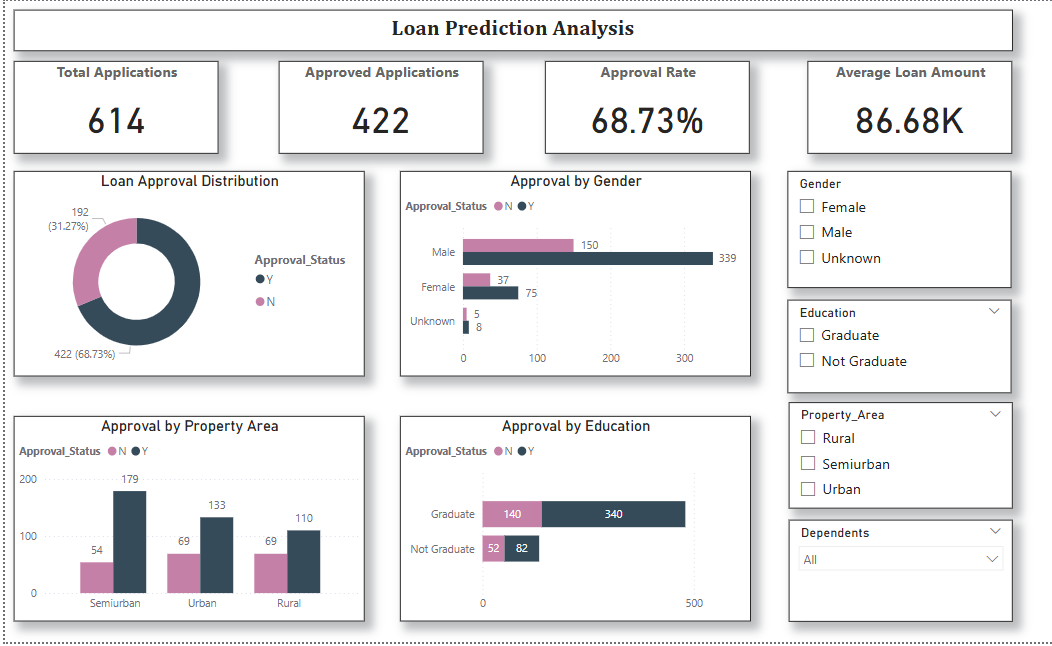

What the dashboard file says about the page in this screenshot:
{"tool":"powerbi","page":{"name":"Page 1","canvas":[1280,720],"ordinal":0},"visuals":[{"type":"textbox","box":[9.8,9.8,1120.4,46.3],"z":0},{"type":"card","title":"Total Applications","fields":{"Values":["CountNonNull(Loan Prediction dataset.Loan_ID)"]},"box":[9.8,67.3,230,103.8],"z":1000},{"type":"card","title":"Approved Applications","fields":{"Values":["CountNonNull(Loan Prediction dataset.Loan_ID)"]},"box":[307.1,67.3,230,103.8],"z":2000},{"type":"card","title":"Approval Rate","fields":{"Values":["Loan Prediction dataset.Approval Rate"]},"box":[605.8,67.3,230,103.8],"z":3000},{"type":"card","title":"Average Loan Amount","fields":{"Values":["Sum(Loan Prediction dataset.Loan_Amount)"]},"box":[900.3,67.3,230,103.8],"z":4000},{"type":"donutChart","title":"Loan Approval Distribution","fields":{"Y":["CountNonNull(Loan Prediction dataset.Loan_ID)"],"Category":["Loan Prediction dataset.Approval_Status"]},"box":[9.5,190.7,393.4,230.1],"z":5000},{"type":"clusteredBarChart","title":"Approval by Gender","fields":{"Category":["Loan Prediction dataset.Gender"],"Y":["CountNonNull(Loan Prediction dataset.Loan_ID)"],"Series":["Loan Prediction dataset.Approval_Status"]},"box":[443.4,190.7,393.4,230.1],"z":6000},{"type":"barChart","title":"Approval by Education","fields":{"Category":["Loan Prediction dataset.Education"],"Y":["CountNonNull(Loan Prediction dataset.Loan_ID)"],"Series":["Loan Prediction dataset.Approval_Status"]},"box":[443.4,466.1,393.4,230.1],"z":7000},{"type":"clusteredColumnChart","title":"Approval by Property Area","fields":{"Category":["Loan Prediction dataset.Property_Area"],"Series":["Loan Prediction dataset.Approval_Status"],"Y":["CountNonNull(Loan Prediction dataset.Loan_ID)"]},"box":[9.5,466.1,393.4,230.1],"z":8000},{"type":"slicer","title":"Approval by Gender","fields":{"Values":["Loan Prediction dataset.Gender"]},"box":[878.5,190.7,251.5,131.1],"z":9000},{"type":"slicer","title":"Approval by Gender","fields":{"Values":["Loan Prediction dataset.Education"]},"box":[878.5,335,251.5,104.9],"z":10000},{"type":"slicer","title":"Approval by Gender","fields":{"Values":["Loan Prediction dataset.Property_Area"]},"box":[879.7,450.6,251.5,119.2],"z":11000},{"type":"slicer","title":"Approval by Gender","fields":{"Values":["Loan Prediction dataset.Dependents"]},"box":[879.7,581.7,251.5,114.4],"z":12000}]}

Visuals, with their boxes on the page's 1280x720 design canvas (x1, y1, x2, y2). These are canvas units, not pixel positions in the 1052x646 screenshot, which may show the page scaled, cropped or inside an application window:
textbox: [left=10, top=10, right=1130, bottom=56]
"Total Applications" card: [left=10, top=67, right=240, bottom=171]
"Approved Applications" card: [left=307, top=67, right=537, bottom=171]
"Approval Rate" card: [left=606, top=67, right=836, bottom=171]
"Average Loan Amount" card: [left=900, top=67, right=1130, bottom=171]
"Loan Approval Distribution" donutChart: [left=10, top=191, right=403, bottom=421]
"Approval by Gender" clusteredBarChart: [left=443, top=191, right=837, bottom=421]
"Approval by Education" barChart: [left=443, top=466, right=837, bottom=696]
"Approval by Property Area" clusteredColumnChart: [left=10, top=466, right=403, bottom=696]
"Approval by Gender" slicer: [left=878, top=191, right=1130, bottom=322]
"Approval by Gender" slicer: [left=878, top=335, right=1130, bottom=440]
"Approval by Gender" slicer: [left=880, top=451, right=1131, bottom=570]
"Approval by Gender" slicer: [left=880, top=582, right=1131, bottom=696]
